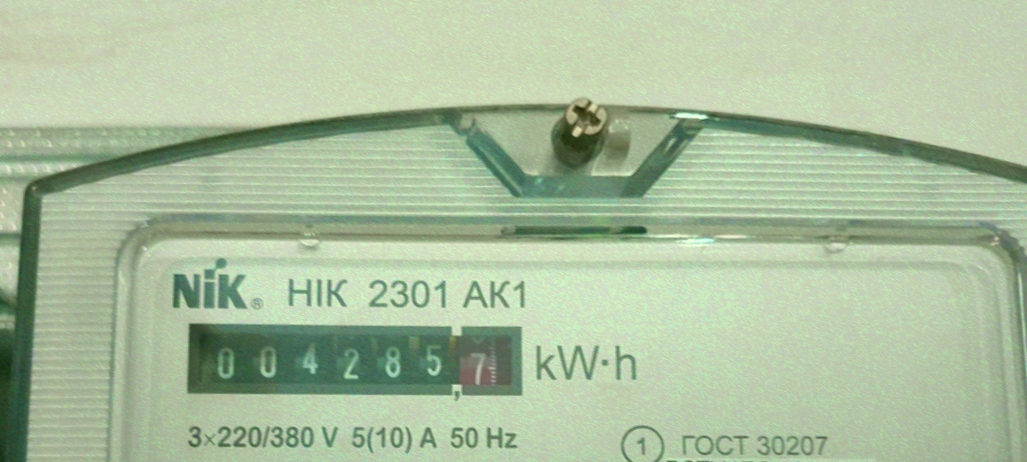0: (256, 342, 279, 379), (214, 343, 236, 379)
2: (340, 344, 360, 381)
4: (300, 340, 318, 375)
5: (421, 340, 443, 377)
7: (466, 349, 486, 386)
8: (380, 342, 402, 380)
screen: (171, 306, 538, 415)
